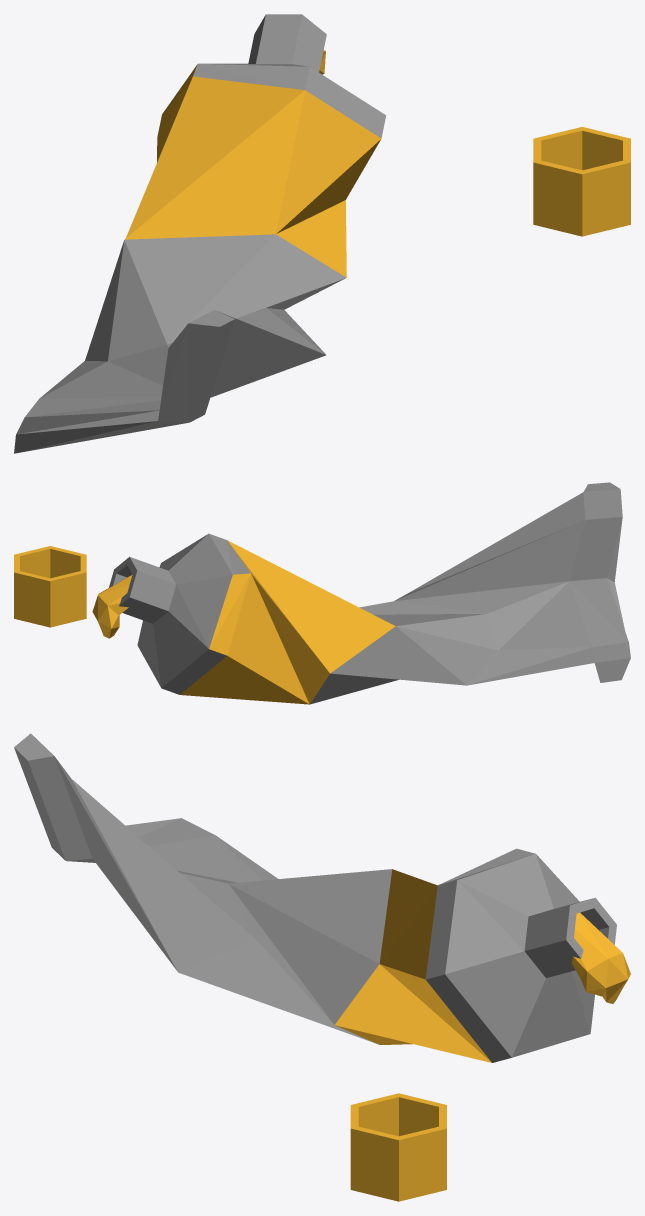
Rendered from pig_Y.FBX.
The picture shows the model from 3 angles, top to bottom: view 1: azimuth 30°, elevation 25°; view 2: azimuth 150°, elevation 25°; view 3: azimuth 270°, elevation 25°; orthographic projection. The views are drawn at different scales.
Parts seen in each view (by area): view 1: Cylinder001; view 2: Cylinder001; view 3: Cylinder001.
Boxes of the visible parts, left/top/right/bottom form: Cylinder001: left=14, top=14, right=630, bottom=453; Cylinder001: left=14, top=482, right=630, bottom=704; Cylinder001: left=14, top=733, right=630, bottom=1201.
Size of the model in its own units: 54.35 by 14.29 by 40.75.
